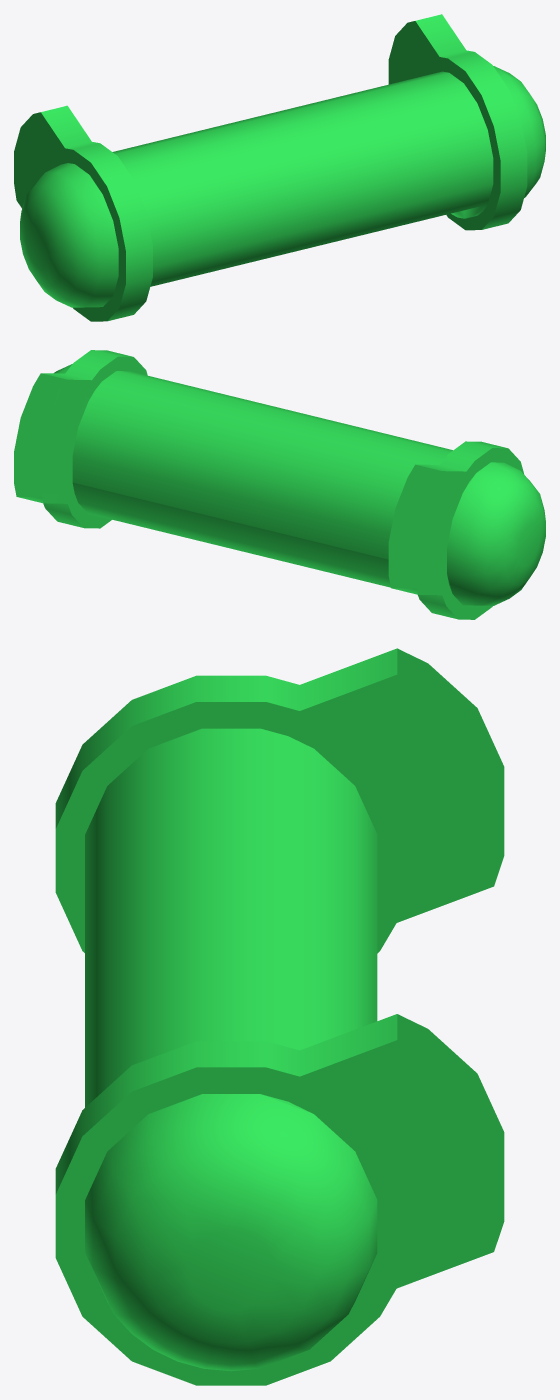
The model's file is DoorLight01.fbx.
3 renders of one model, top to bottom at view 1: azimuth 30°, elevation 25°; view 2: azimuth 150°, elevation 25°; view 3: azimuth 270°, elevation 25°, orthographic. The views are drawn at different scales.
Visible parts, largest first — view 1: DoorLight01; view 2: DoorLight01; view 3: DoorLight01.
Boxes of the visible parts, x1=… form: DoorLight01: x1=14, y1=14, x2=545, y2=321; DoorLight01: x1=14, y1=350, x2=545, y2=619; DoorLight01: x1=55, y1=648, x2=504, y2=1385.
Bounding box in the file's own units: 61.6 × 20.69 × 24.33.
